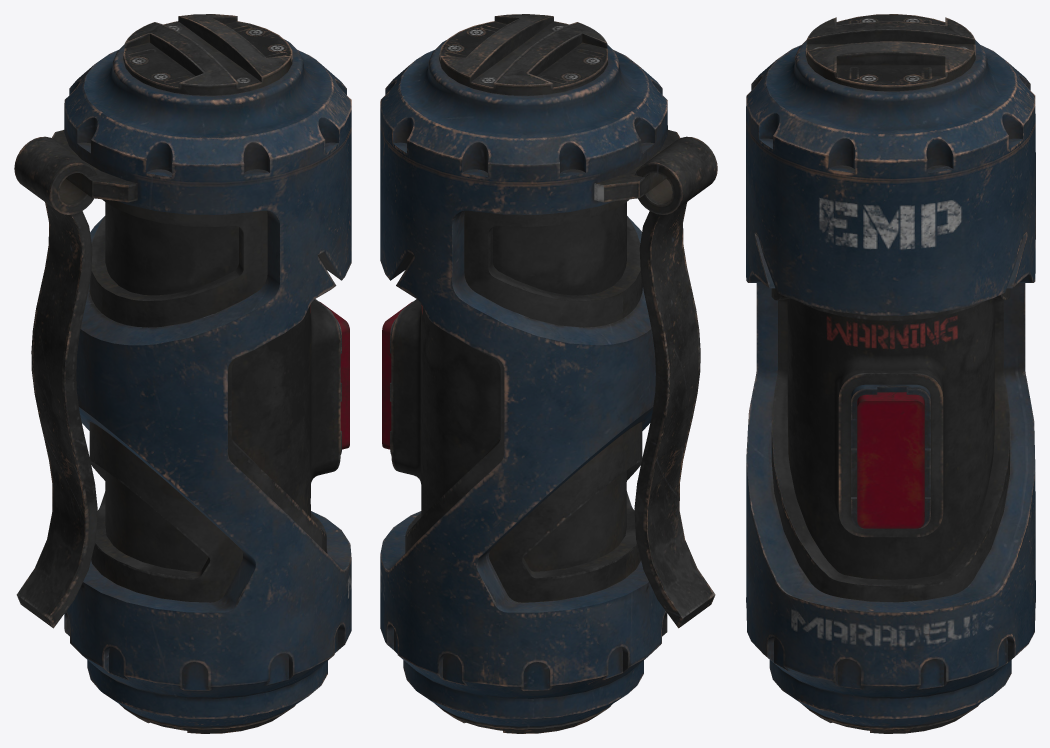
File: sci-fi_emp_grenade.glb
The picture shows the model from 3 angles, left to right: view 1: azimuth 30°, elevation 25°; view 2: azimuth 150°, elevation 25°; view 3: azimuth 270°, elevation 25°; orthographic projection.
Parts seen in each view (by area): view 1: outer_shell_low, inner_shell_low, cap_low, button_low; view 2: outer_shell_low, inner_shell_low, cap_low, button_low; view 3: outer_shell_low, inner_shell_low, cap_low, button_low, button_rim_low.
Boxes of the visible parts, x1,y1,x2,y2 form: outer_shell_low: [14, 39, 351, 733]; inner_shell_low: [89, 199, 340, 602]; cap_low: [123, 14, 292, 95]; button_low: [319, 301, 349, 449]; outer_shell_low: [380, 39, 717, 733]; inner_shell_low: [391, 199, 642, 602]; cap_low: [439, 14, 607, 95]; button_low: [382, 301, 412, 449]; outer_shell_low: [746, 40, 1035, 733]; inner_shell_low: [771, 288, 1010, 602]; cap_low: [805, 14, 975, 91]; button_low: [857, 392, 924, 528]; button_rim_low: [851, 384, 930, 529].
Bounding box in the file's own units: 1.41 × 2.99 × 1.17.
1 material, 1 textured.
